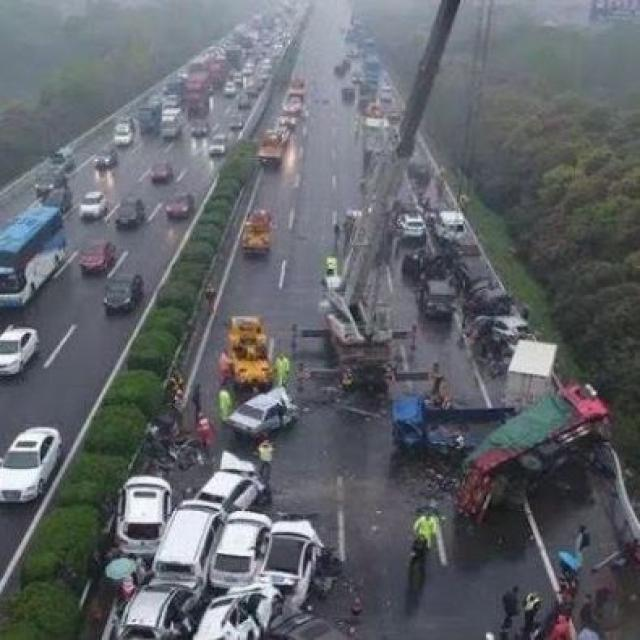traffic_incident: (115, 453, 334, 638), (447, 382, 611, 526), (214, 376, 303, 446), (460, 297, 538, 374)
